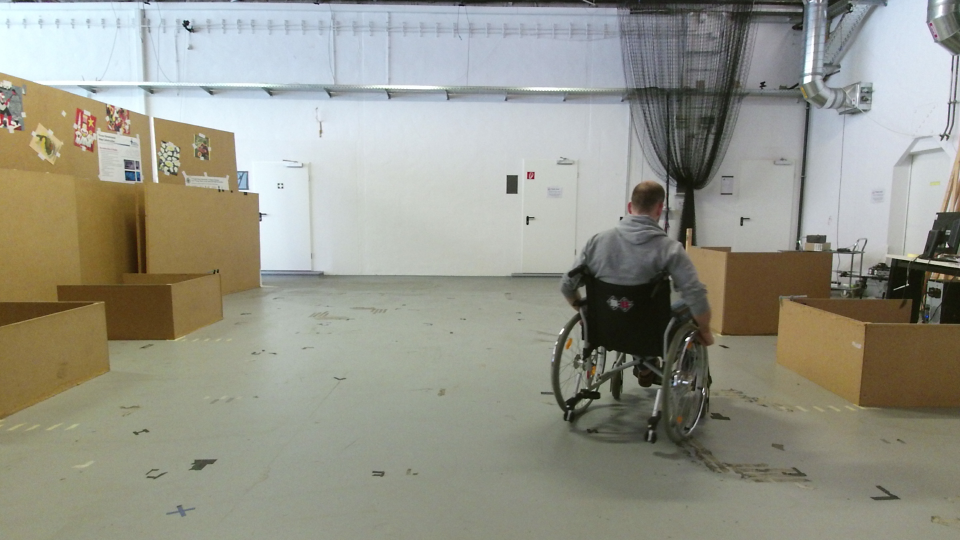wheelchair: (546, 172, 717, 450)
